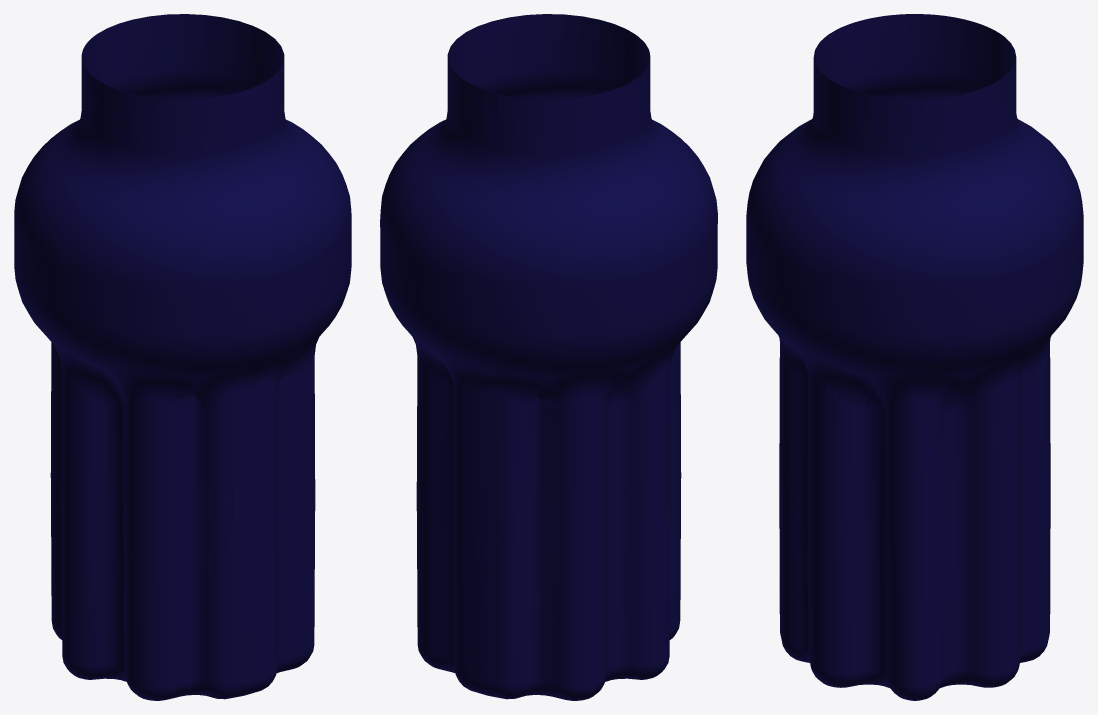
The model's file is hat_part.obj.
The picture shows the model from 3 angles, left to right: view 1: azimuth 30°, elevation 25°; view 2: azimuth 150°, elevation 25°; view 3: azimuth 270°, elevation 25°; orthographic projection.
Visible parts, largest first — view 1: hat_part; view 2: hat_part; view 3: hat_part.
Part boxes in pixels (x1,y1,x2,y2): hat_part: (14, 14, 351, 700); hat_part: (380, 14, 717, 700); hat_part: (746, 14, 1083, 700).
Size of the model in its own units: 4.82 by 9.38 by 4.82.
